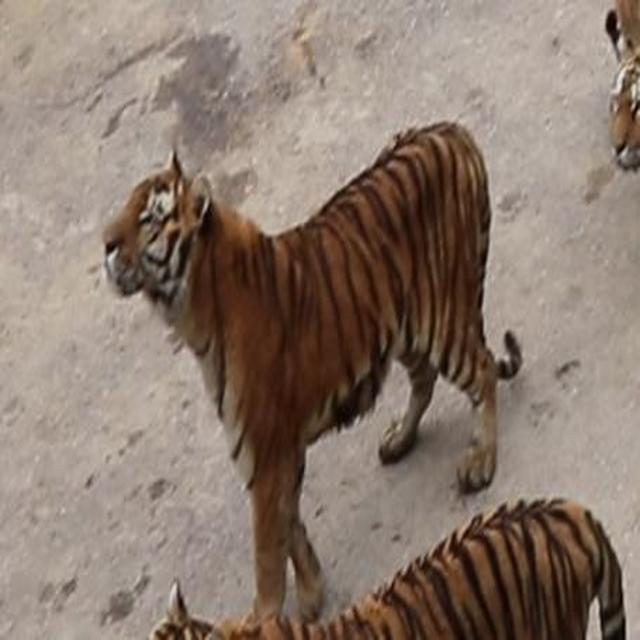tiger: (100, 118, 523, 626), (136, 495, 633, 639), (602, 0, 639, 174)
